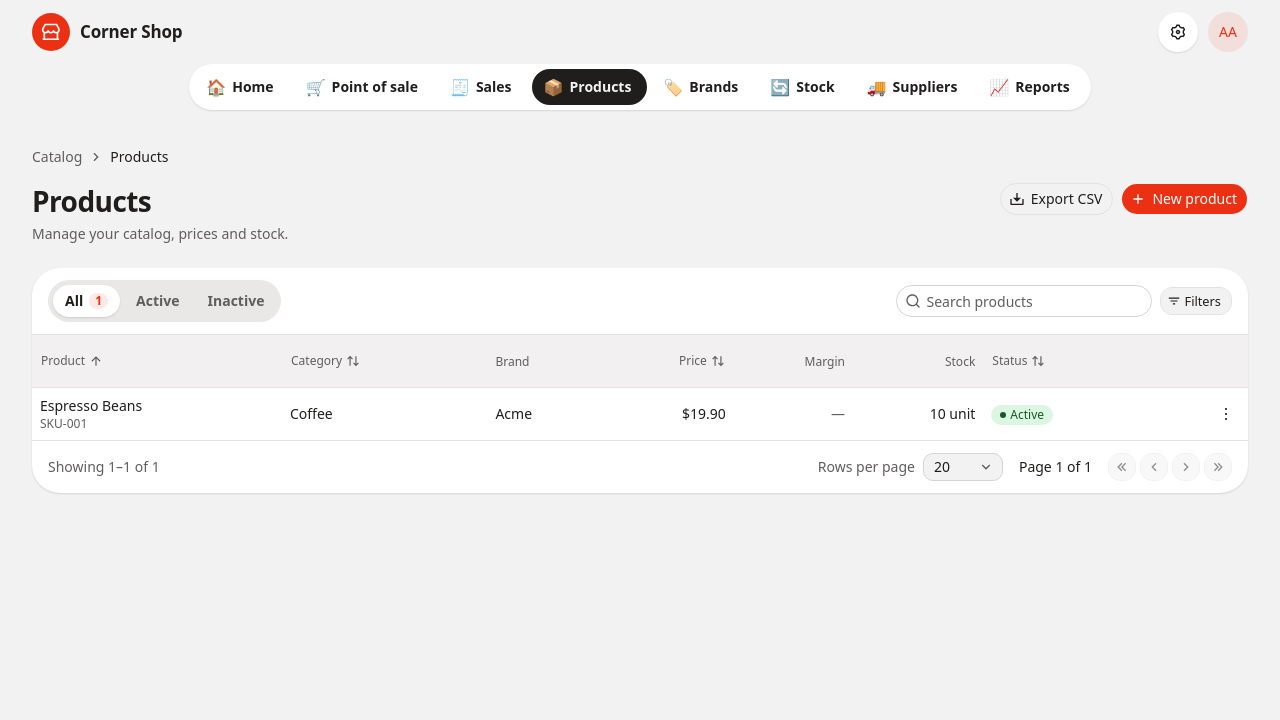
Test case: role permissions in the UI › toasts on 403 from a mutation
Expected: the link "Espresso Beans" is shown, left=40, top=396, right=142, bottom=415
Click the button named "Actions": [1226, 414] box left=1212, top=400, right=1240, bottom=428
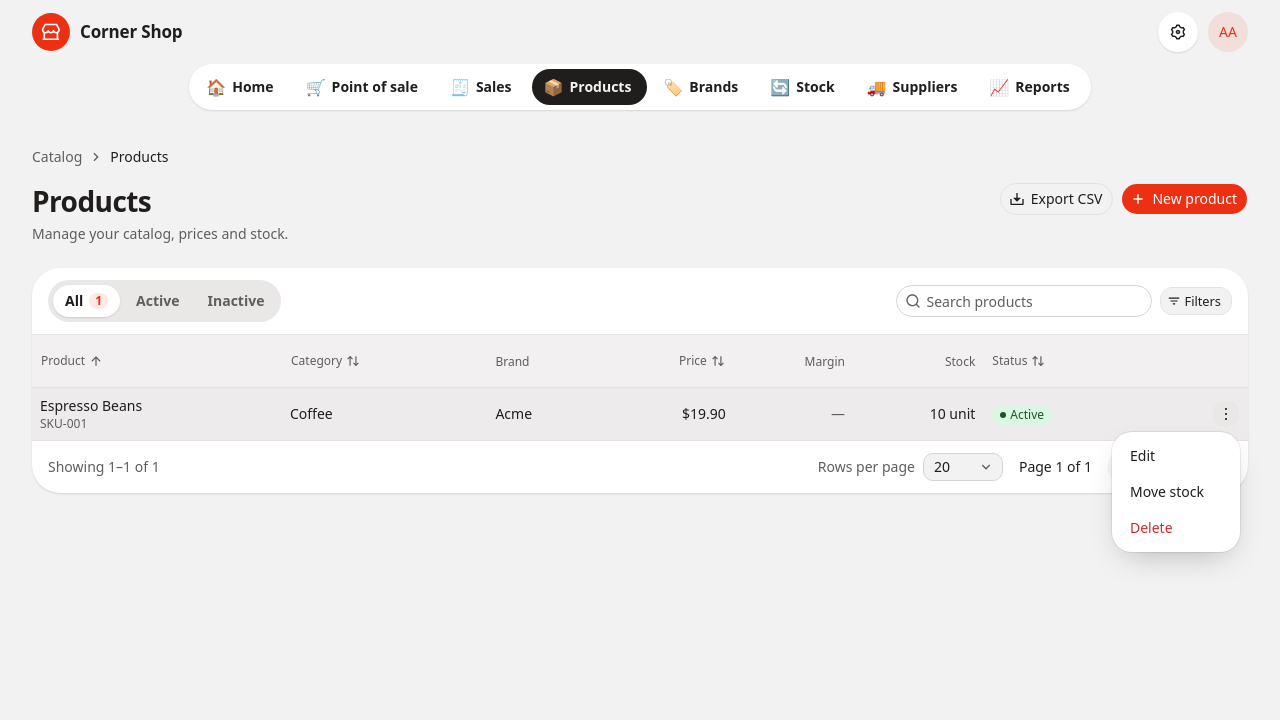
Click the menu item "Delete": [1151, 528] box left=1130, top=518, right=1173, bottom=537
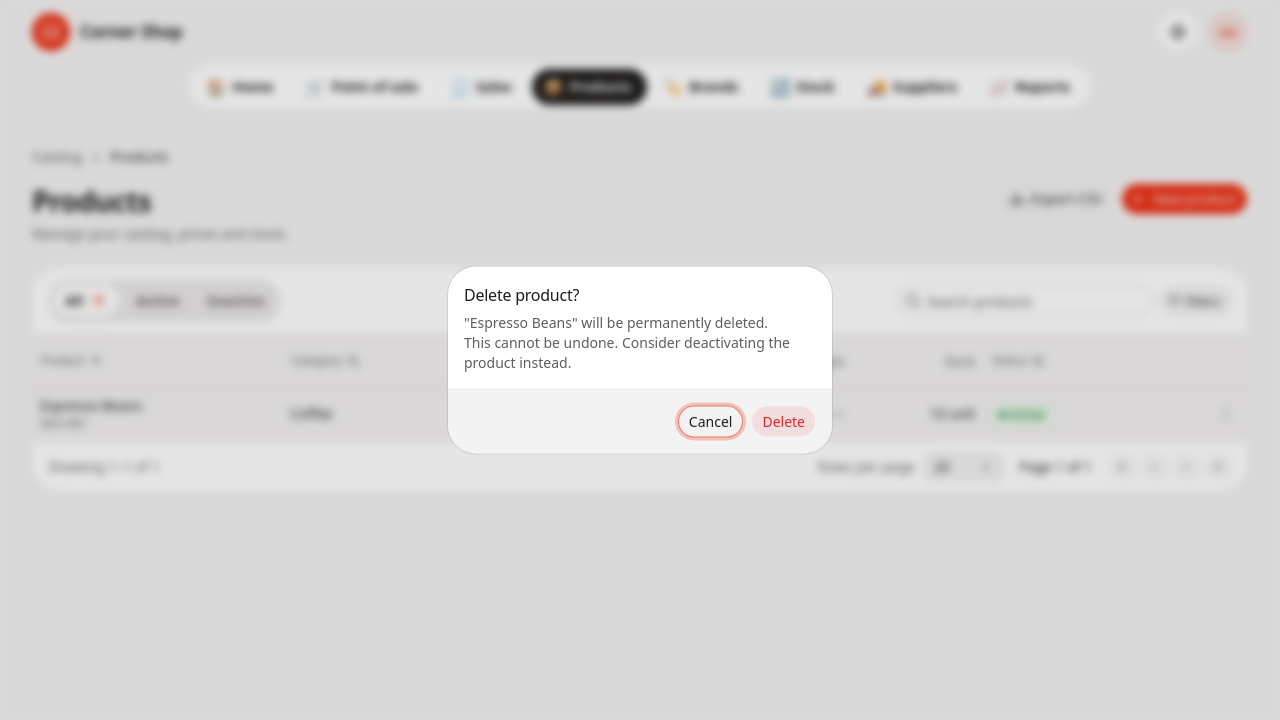
Click the button "Delete": [784, 422] box left=751, top=406, right=816, bottom=438
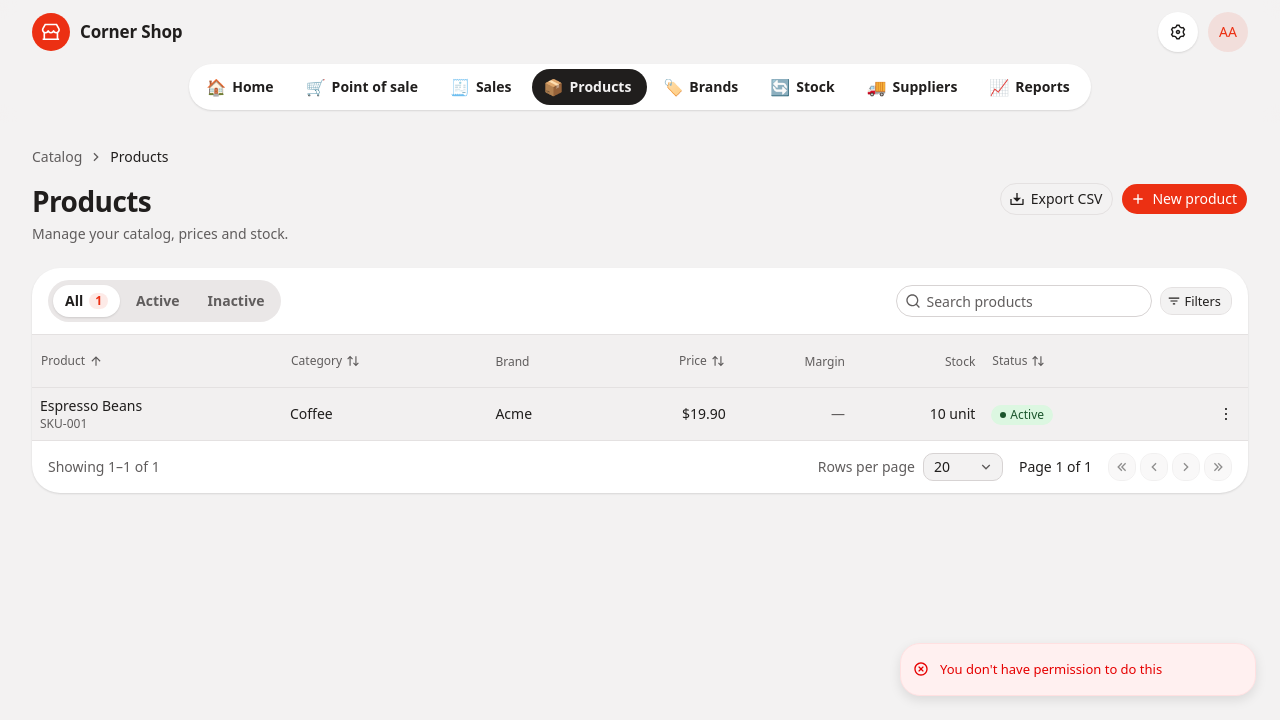
Now the text "You don't have permission to do this" is shown, box left=940, top=660, right=1162, bottom=679
